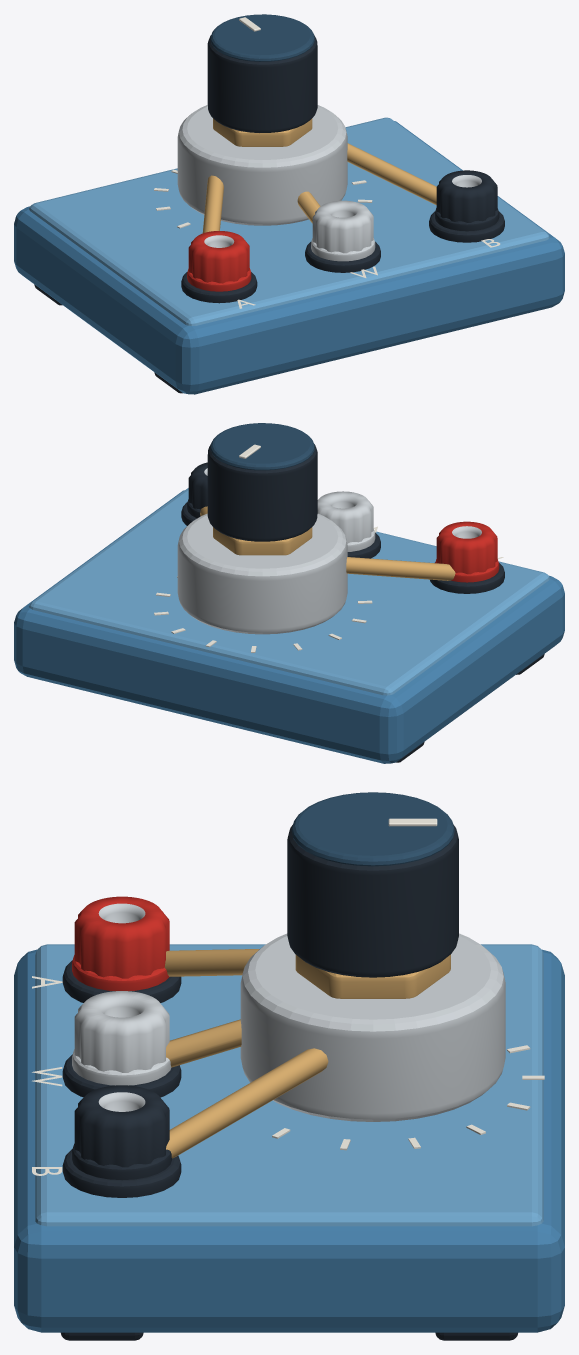
Rendered from potentiometer.glb.
3 renders of one model, top to bottom at view 1: azimuth 30°, elevation 25°; view 2: azimuth 150°, elevation 25°; view 3: azimuth 270°, elevation 25°, orthographic. The views are drawn at different scales.
Parts seen in each view (by area): view 1: Potentiometer mount, Fitted faceplate, Metal potentiometer can, Knurled user knob, Knob cap, c binding socket, n binding socket, p binding socket, Visible solder terminal.002, Mounting nut, p socket washer, c socket washer (+5 smaller); view 2: Potentiometer mount, Fitted faceplate, Metal potentiometer can, Knurled user knob, Knob cap, p binding socket, c binding socket, Visible solder terminal, Mounting nut, p socket washer, n binding socket, p socket foot; view 3: Potentiometer mount, Fitted faceplate, Metal potentiometer can, Knurled user knob, Knob cap, n binding socket, p binding socket, c binding socket, Visible solder terminal.002, Mounting nut, n socket washer, Visible solder terminal (+8 smaller).
Part boxes in pixels (left/top/right/bottom): Potentiometer mount: left=14, top=121, right=564, bottom=394; Fitted faceplate: left=29, top=117, right=549, bottom=325; Metal potentiometer can: left=177, top=105, right=347, bottom=225; Knurled user knob: left=207, top=35, right=317, bottom=132; Knob cap: left=210, top=14, right=314, bottom=61; c binding socket: left=312, top=200, right=373, bottom=253; n binding socket: left=436, top=170, right=497, bottom=222; p binding socket: left=188, top=231, right=249, bottom=283; Visible solder terminal.002: left=347, top=143, right=436, bottom=205; Mounting nut: left=213, top=118, right=312, bottom=146; p socket washer: left=181, top=272, right=257, bottom=303; c socket washer: left=305, top=241, right=380, bottom=272; Potentiometer mount: left=14, top=490, right=564, bottom=763; Fitted faceplate: left=29, top=488, right=549, bottom=695; Metal potentiometer can: left=177, top=513, right=347, bottom=634; Knurled user knob: left=207, top=444, right=317, bottom=541; Knob cap: left=210, top=423, right=314, bottom=470; p binding socket: left=436, top=521, right=497, bottom=574; c binding socket: left=317, top=491, right=373, bottom=543; Visible solder terminal: left=346, top=557, right=455, bottom=580; Mounting nut: left=213, top=527, right=312, bottom=555; p socket washer: left=430, top=562, right=504, bottom=593; n binding socket: left=188, top=462, right=207, bottom=509; p socket foot: left=435, top=559, right=499, bottom=582; Potentiometer mount: left=14, top=949, right=564, bottom=1332; Fitted faceplate: left=35, top=944, right=543, bottom=1226; Metal potentiometer can: left=240, top=933, right=505, bottom=1121; Knurled user knob: left=287, top=824, right=458, bottom=977; Knob cap: left=291, top=792, right=454, bottom=866; n binding socket: left=74, top=1085, right=169, bottom=1167; p binding socket: left=74, top=896, right=169, bottom=978; c binding socket: left=74, top=991, right=169, bottom=1072; Visible solder terminal.002: left=166, top=1048, right=328, bottom=1158; Mounting nut: left=295, top=954, right=450, bottom=998; n socket washer: left=62, top=1149, right=181, bottom=1197; Visible solder terminal: left=164, top=949, right=259, bottom=976.
Size of the model in its own units: 0.1 by 0.0606 by 0.079.
